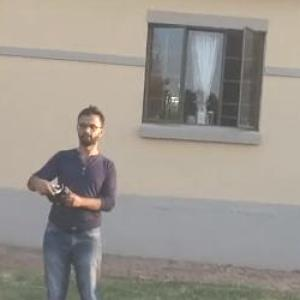follow: (20, 92, 122, 299)
